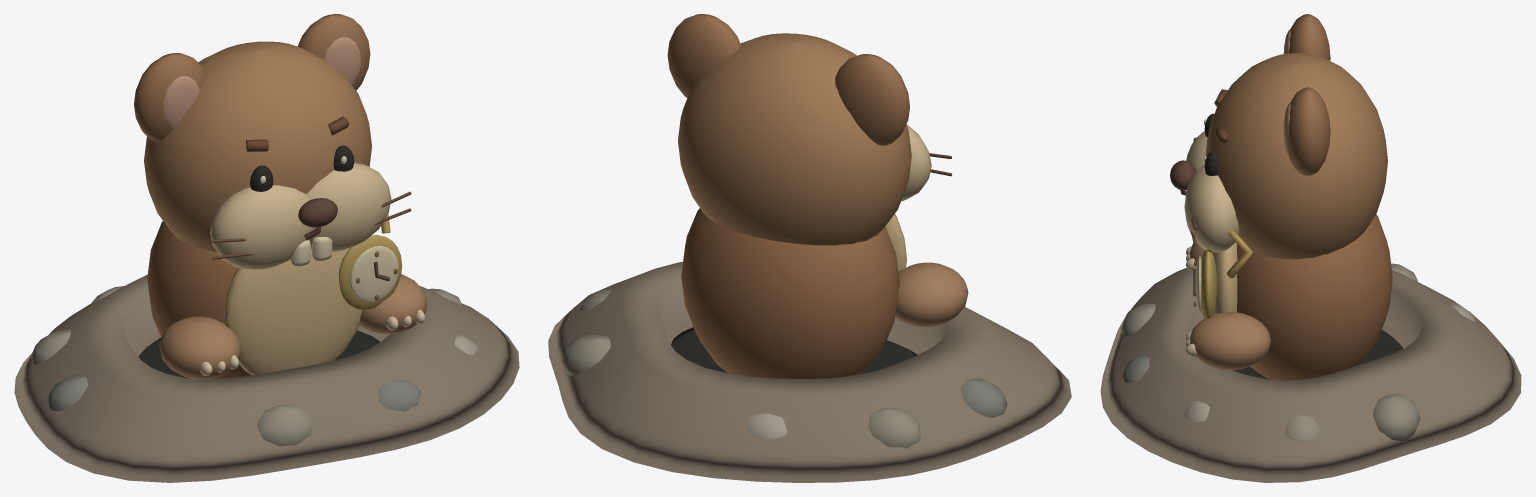
Rendered from teatime-gopher.glb.
The picture shows the model from 3 angles, left to right: view 1: azimuth 30°, elevation 25°; view 2: azimuth 150°, elevation 25°; view 3: azimuth 270°, elevation 25°; orthographic projection. The views are drawn at different scales.
Visible parts, largest first — view 1: teatime-gopher_Discovery_Mesh, discovery_Head.008_Mesh, discovery_Motion.008_Mesh, discovery_Eyes.008_Mesh; view 2: teatime-gopher_Discovery_Mesh, discovery_Head.008_Mesh, discovery_Motion.008_Mesh; view 3: teatime-gopher_Discovery_Mesh, discovery_Head.008_Mesh, discovery_Motion.008_Mesh, discovery_Eyes.008_Mesh.
Part boxes in pixels (<box>): teatime-gopher_Discovery_Mesh: <box>14,274,519,482</box>; discovery_Head.008_Mesh: <box>134,14,411,269</box>; discovery_Motion.008_Mesh: <box>147,214,427,379</box>; discovery_Eyes.008_Mesh: <box>250,145,354,191</box>; teatime-gopher_Discovery_Mesh: <box>548,261,1071,482</box>; discovery_Head.008_Mesh: <box>667,14,952,245</box>; discovery_Motion.008_Mesh: <box>681,208,968,378</box>; teatime-gopher_Discovery_Mesh: <box>1100,263,1521,482</box>; discovery_Head.008_Mesh: <box>1170,14,1387,259</box>; discovery_Motion.008_Mesh: <box>1186,214,1392,380</box>; discovery_Eyes.008_Mesh: <box>1204,113,1218,175</box>.
Size of the model in its own units: 1.58 by 1.14 by 1.33.
